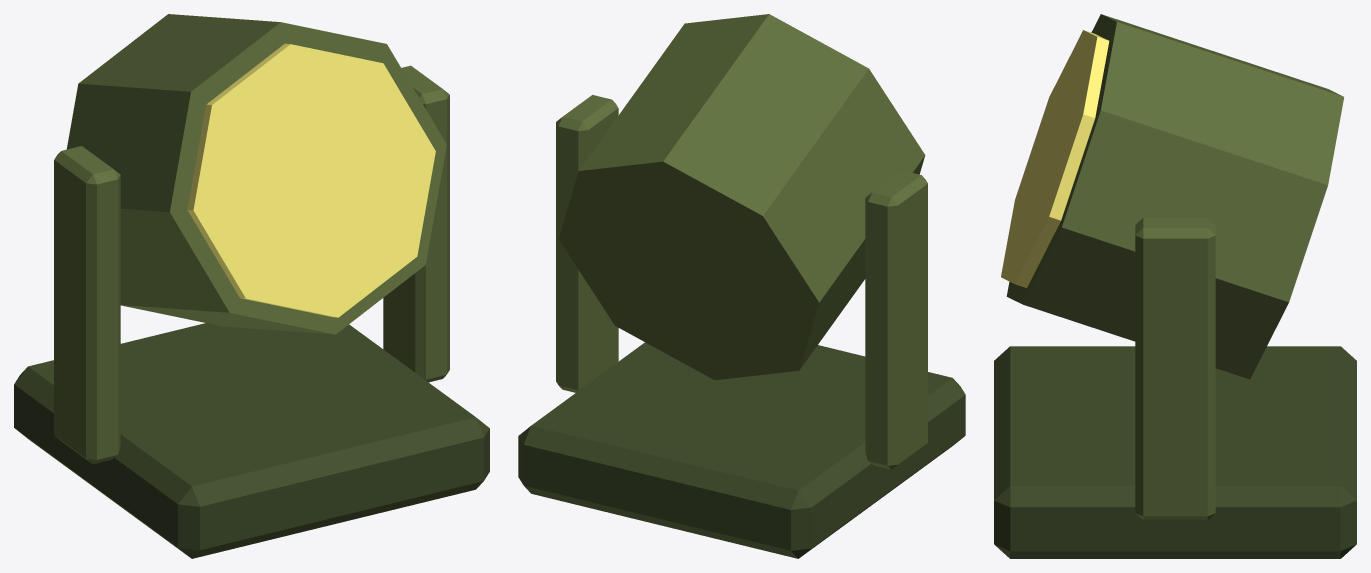
Rendered from Searchlight.fbx.
3 renders of one model, left to right at view 1: azimuth 30°, elevation 25°; view 2: azimuth 150°, elevation 25°; view 3: azimuth 270°, elevation 25°, orthographic. The views are drawn at different scales.
Visible parts, largest first — view 1: Searchlight, Searchlight_Light; view 2: Searchlight_Light, Searchlight; view 3: Searchlight, Searchlight_Light.
Part boxes in pixels (x1=…): Searchlight: x1=14, y1=65, x2=489, y2=558; Searchlight_Light: x1=66, y1=14, x2=446, y2=334; Searchlight_Light: x1=558, y1=14, x2=925, y2=380; Searchlight: x1=518, y1=95, x2=965, y2=558; Searchlight: x1=994, y1=217, x2=1356, y2=558; Searchlight_Light: x1=1001, y1=14, x2=1344, y2=379.
Size of the model in its own units: 2.1 by 2.56 by 1.8.
Materials: 1 (1 with a texture image).
